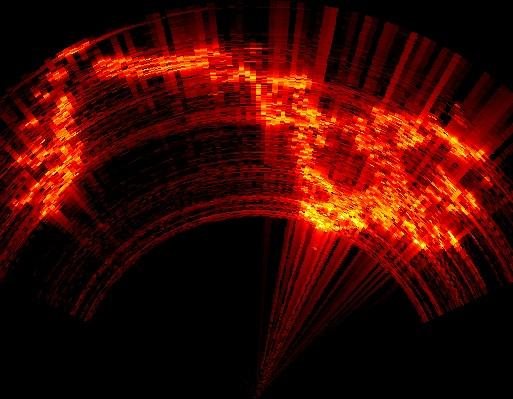shipwreck: (229, 66, 483, 230), (8, 95, 82, 217), (94, 50, 221, 76), (399, 216, 462, 248)
